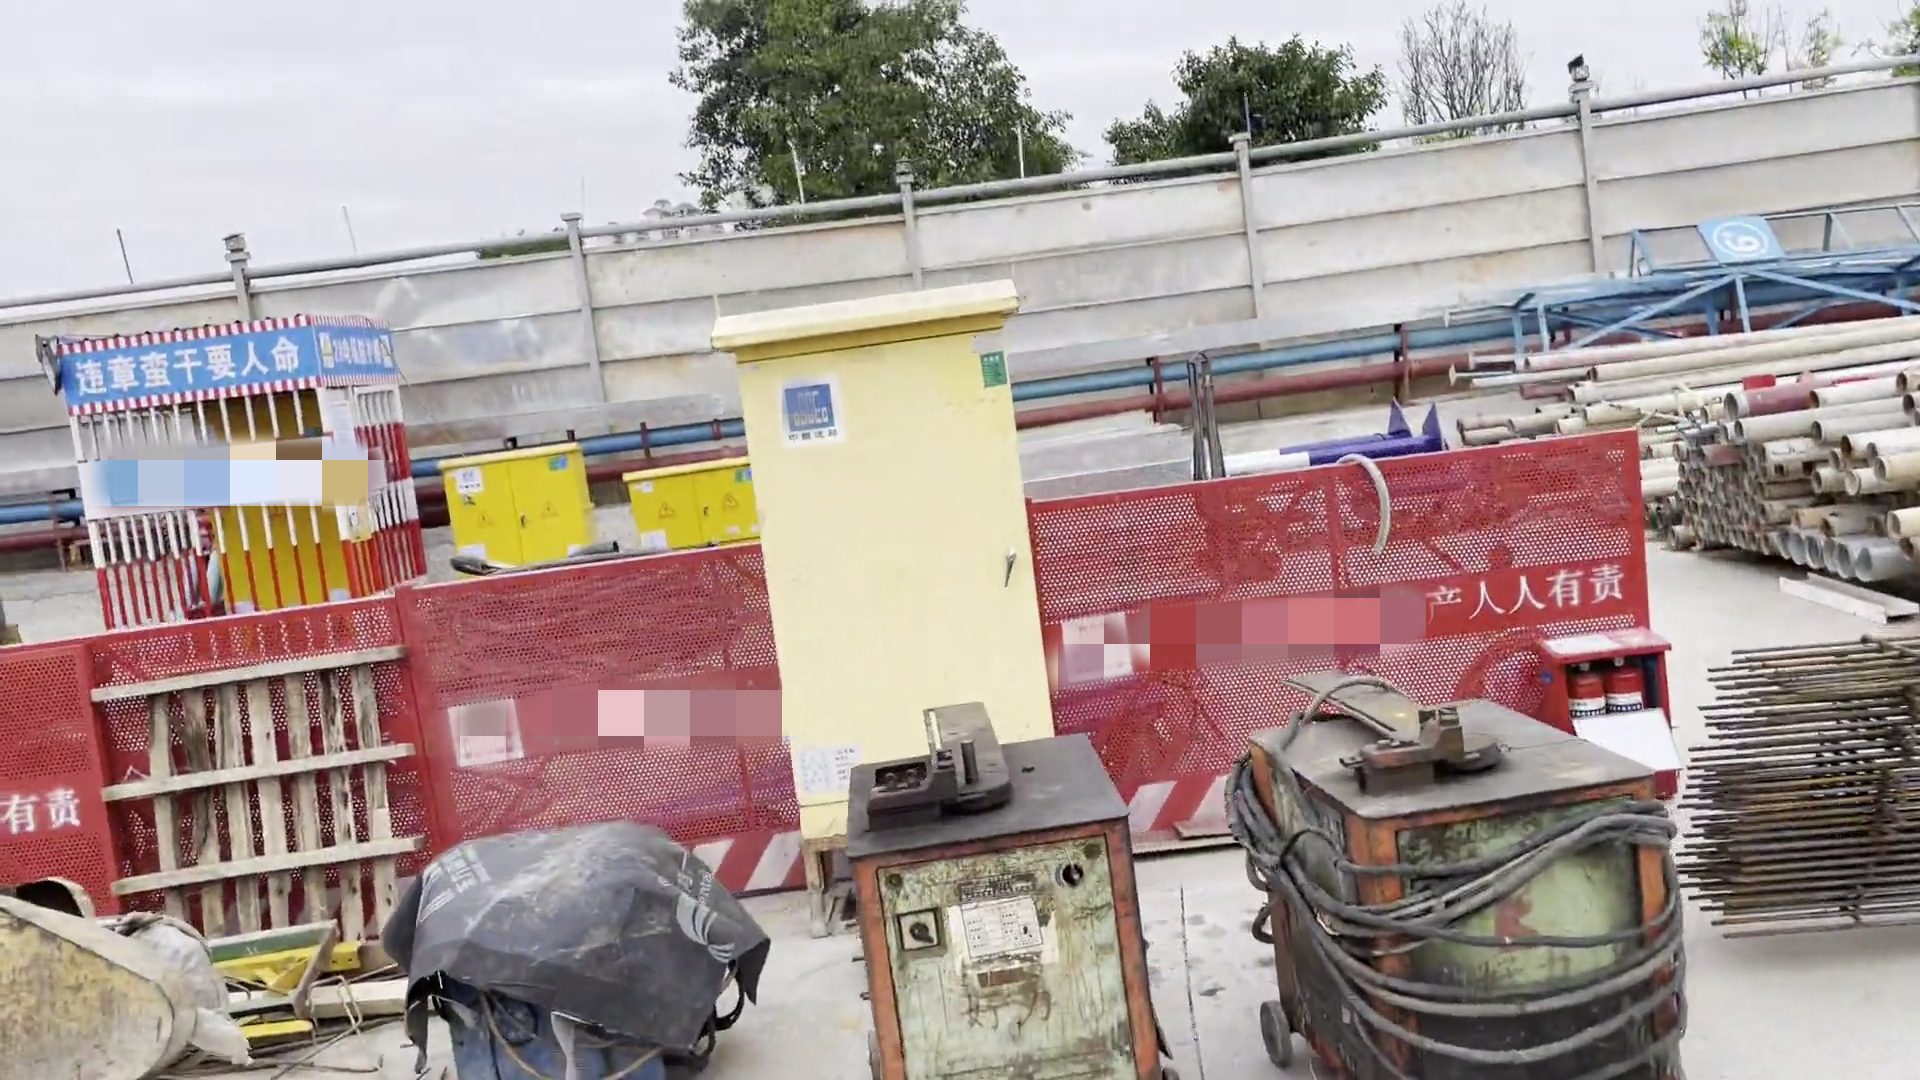cutter: (1203, 644, 1735, 1080), (799, 680, 1195, 1080)
ebox: (711, 280, 1131, 858), (414, 431, 781, 560), (196, 443, 352, 608)
fence: (1, 543, 822, 903), (1026, 422, 1695, 765)
rebar: (1687, 632, 1920, 953)
slogan: (29, 316, 415, 418), (1685, 200, 1789, 276)
